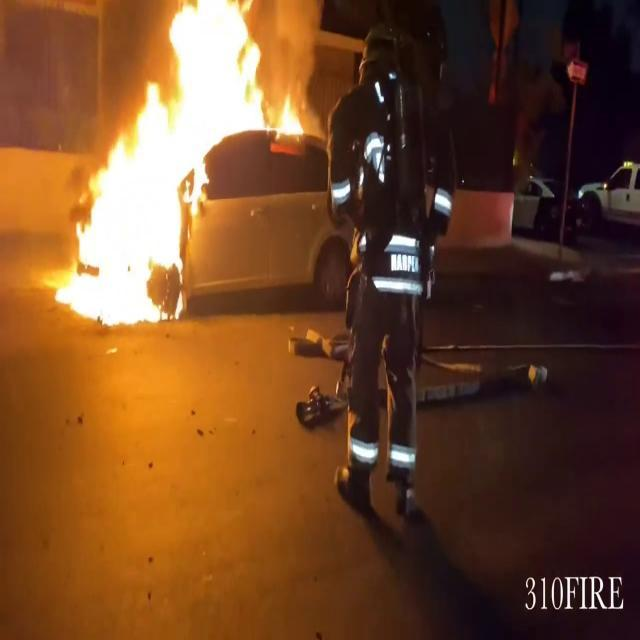Fire: (50, 1, 306, 328)
